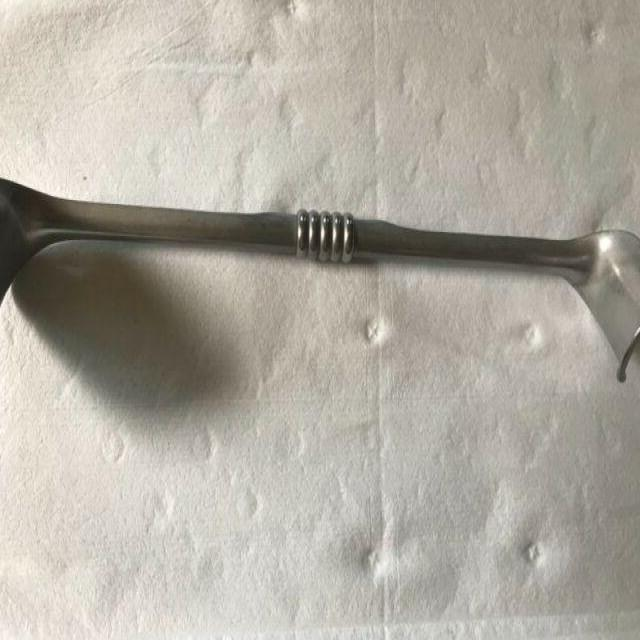Richardson: (1, 170, 637, 390)
